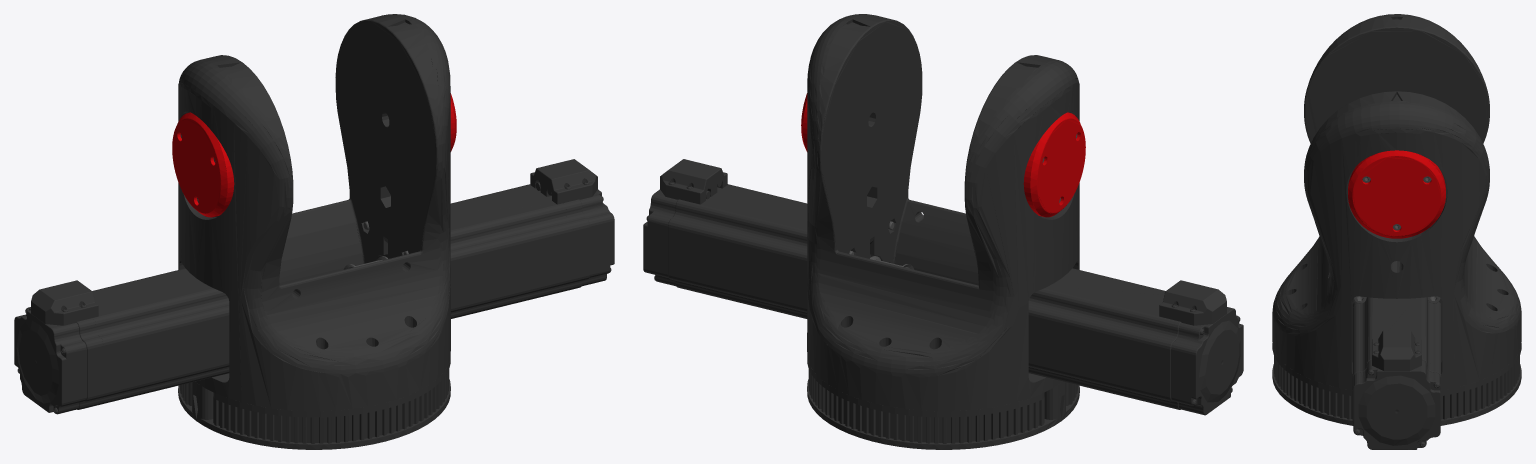
The picture shows the model from 3 angles, left to right: view 1: azimuth 30°, elevation 25°; view 2: azimuth 150°, elevation 25°; view 3: azimuth 270°, elevation 25°; orthographic projection. The views are drawn at different scales.
Visible parts, largest first — view 1: module_2; view 2: module_2; view 3: module_2.
Boxes of the visible parts, x1,y1,x2,y2 form: module_2: (14, 14, 614, 449); module_2: (643, 14, 1243, 449); module_2: (1272, 14, 1521, 449).
Size of the model in its own units: 378 by 226 by 160.
